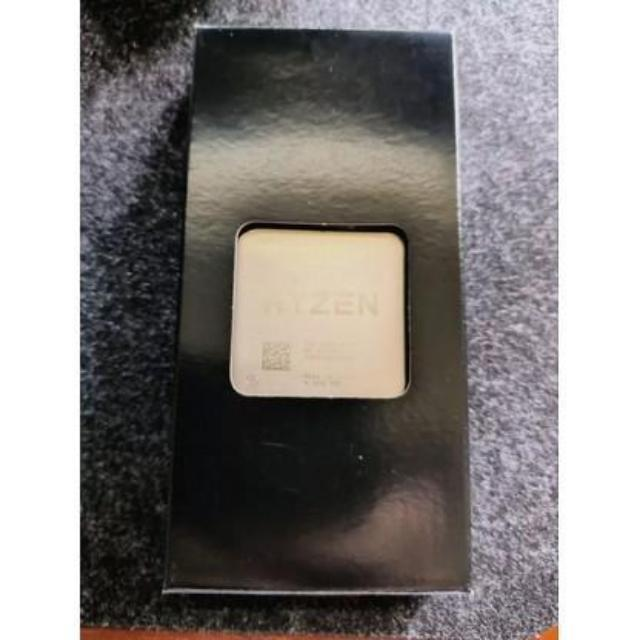CPU: (228, 226, 408, 400)
